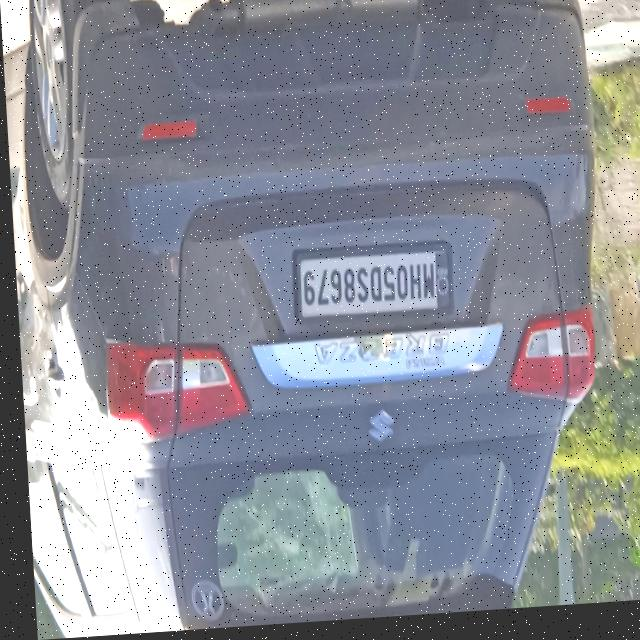plate: (290, 248, 452, 329)
